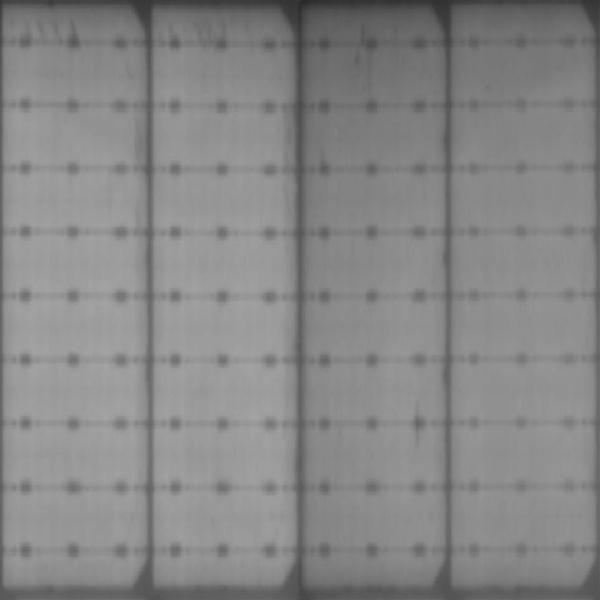scratch: (164, 25, 257, 43), (16, 15, 80, 38), (353, 22, 373, 89), (412, 405, 423, 447)
